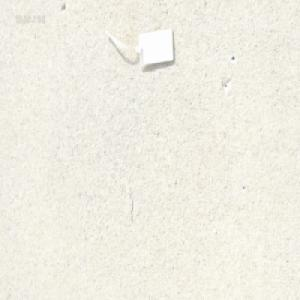LuggageTag: (102, 24, 175, 71)
